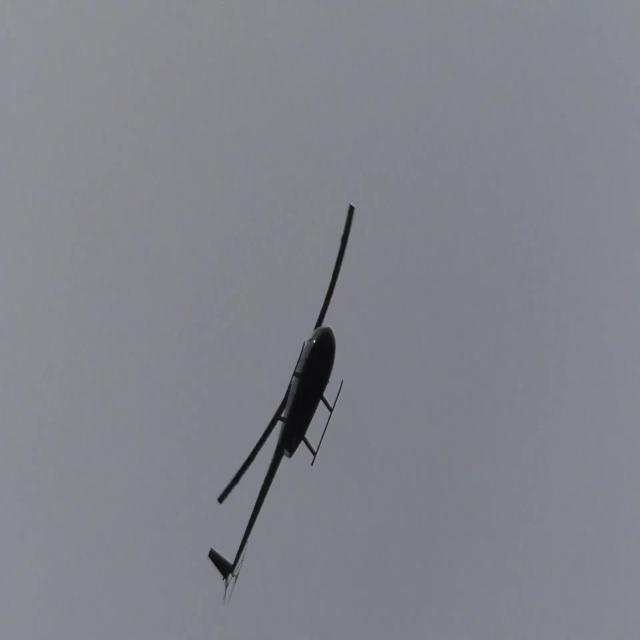CIV_HELO: (206, 324, 344, 583)
